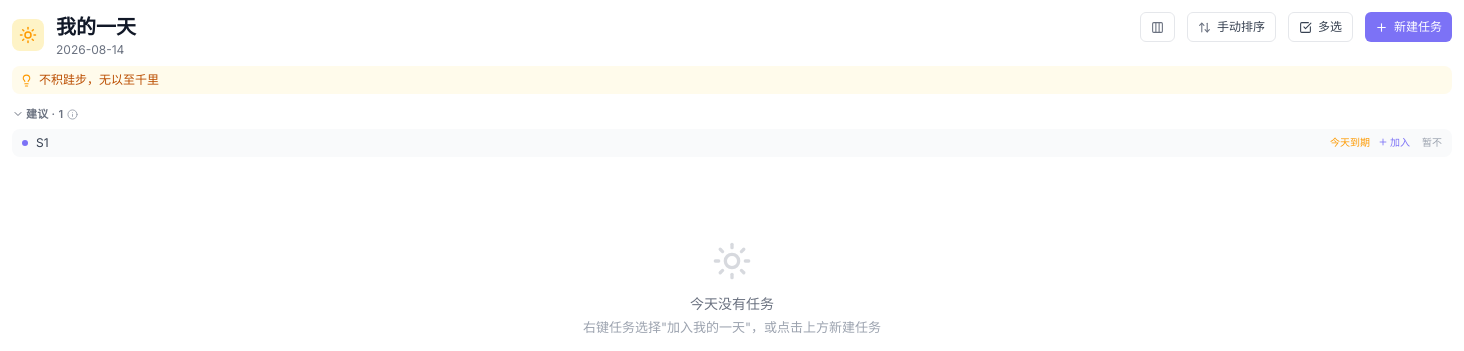
Test: MyDayPage › collapses the whole suggestion section via the header chevron
Expected: the text "S1" is shown, x1=36 y1=134 x2=49 y2=150
Click the button with aria-label "收起建议区块": (38, 114) x1=12 y1=106 x2=63 y2=122
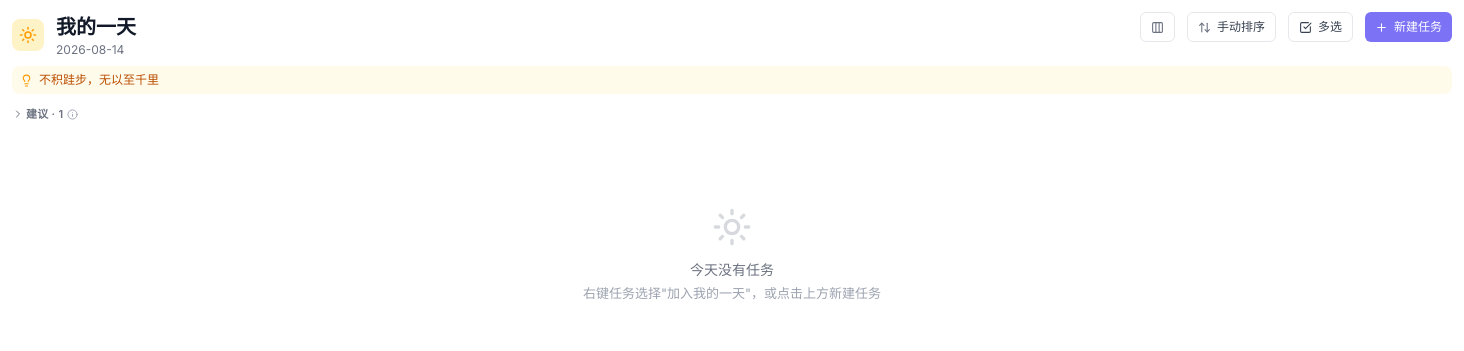
Now the text "S1" is gone
Click the button with aria-label "展开建议区块": (38, 114) x1=12 y1=106 x2=63 y2=122
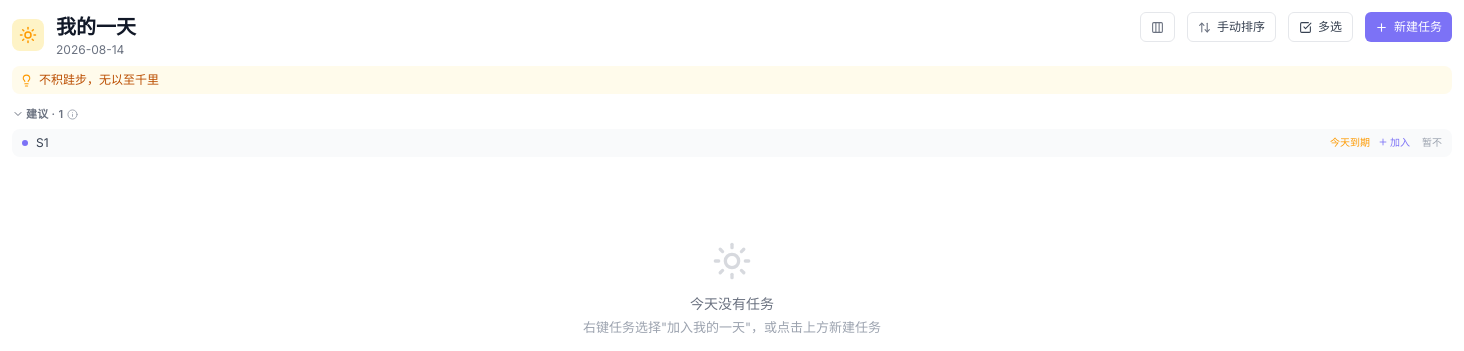
Now the text "S1" is shown, box x1=36 y1=134 x2=49 y2=150
